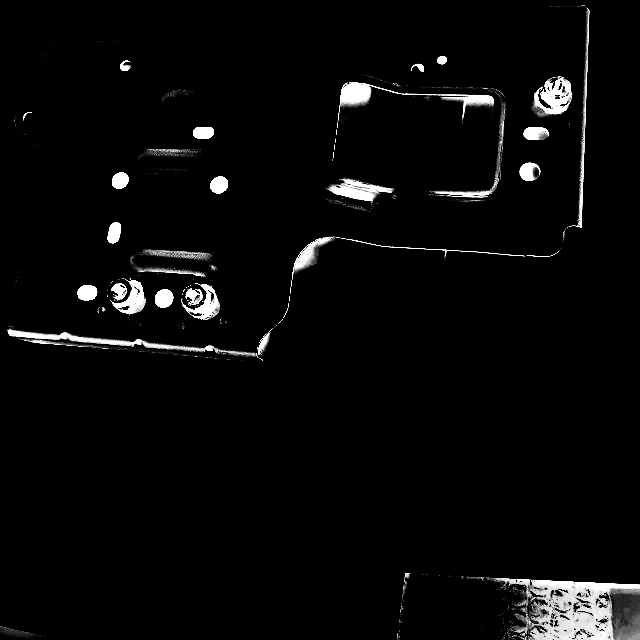dog: (532, 73, 573, 115), (177, 282, 221, 321), (105, 277, 146, 314)
